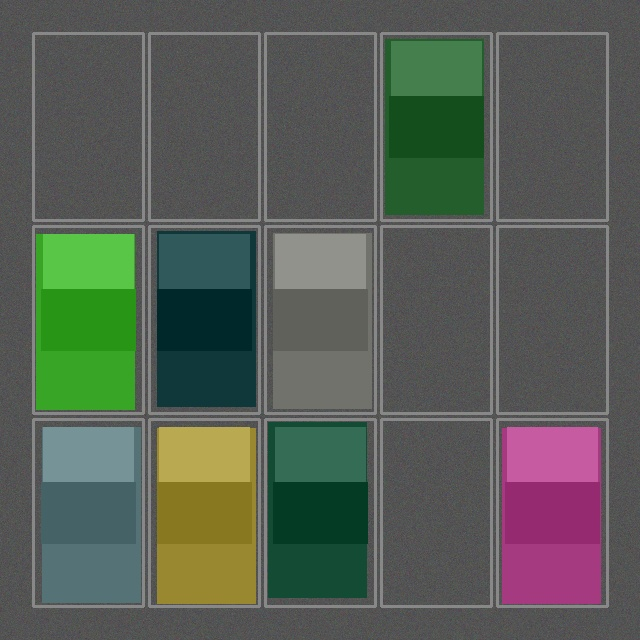space-empty: (35, 35, 141, 218), (151, 35, 257, 218), (267, 35, 373, 218), (499, 35, 605, 218), (383, 228, 489, 411), (499, 228, 605, 411), (383, 421, 489, 604)
space-occupied: (383, 35, 489, 218), (35, 228, 141, 411), (151, 228, 257, 411), (267, 228, 373, 411), (35, 421, 141, 604), (151, 421, 257, 604), (267, 421, 373, 604), (499, 421, 605, 604)
